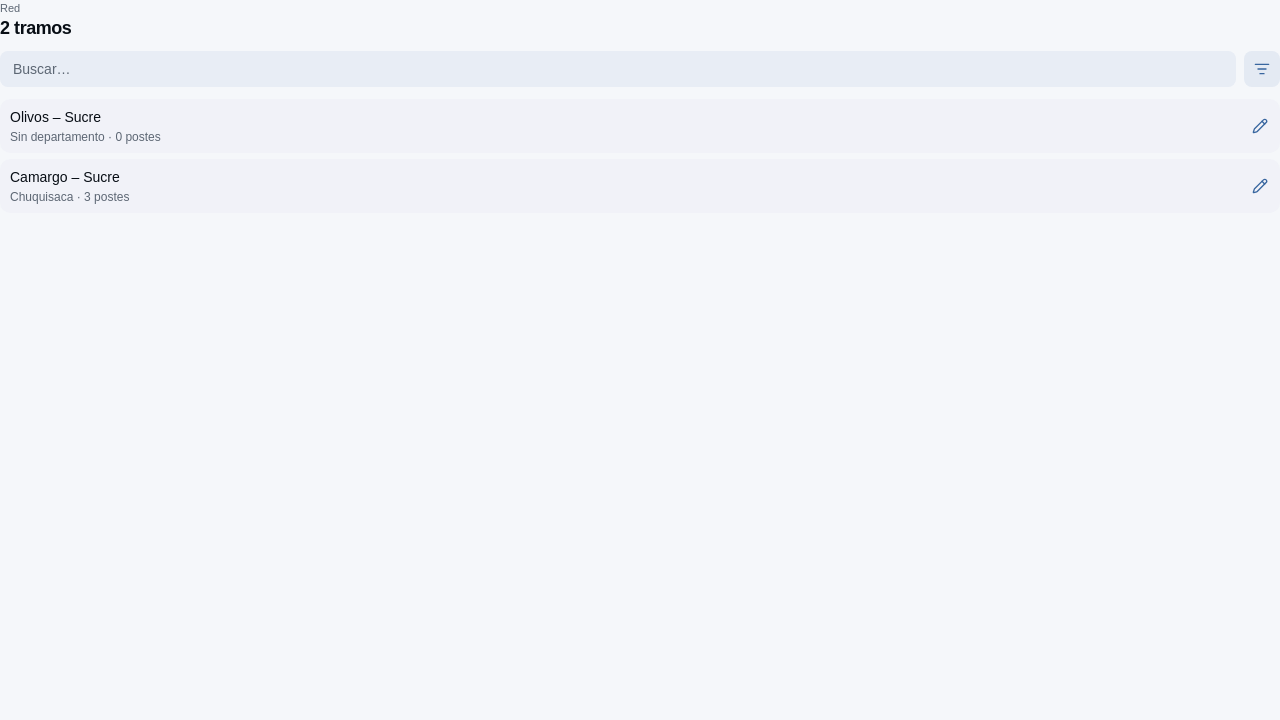
Scenario: the list › offers only the departments some tramo is in
Click the button named "Filtros" at (1262, 69), box top-left (1244, 51), bottom-right (1279, 87)
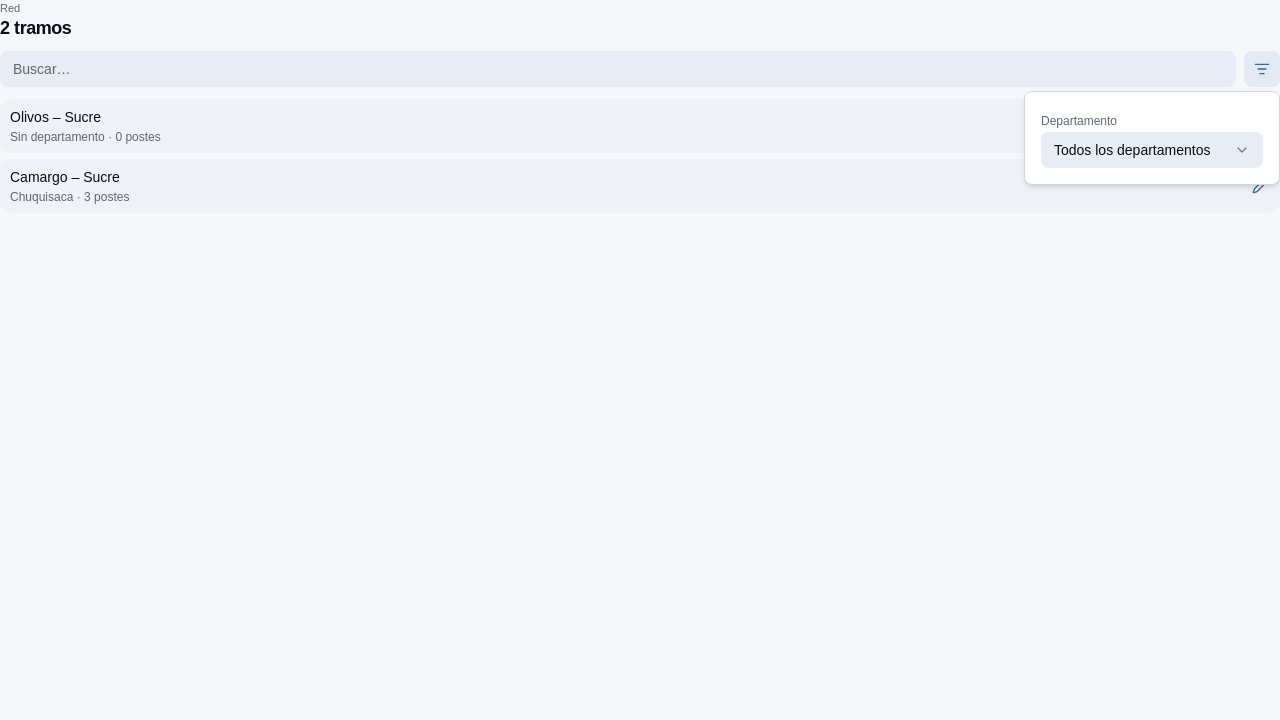
Click the dropdown named "Filtrar por departamento" at (1152, 150), box top-left (1041, 132), bottom-right (1263, 168)
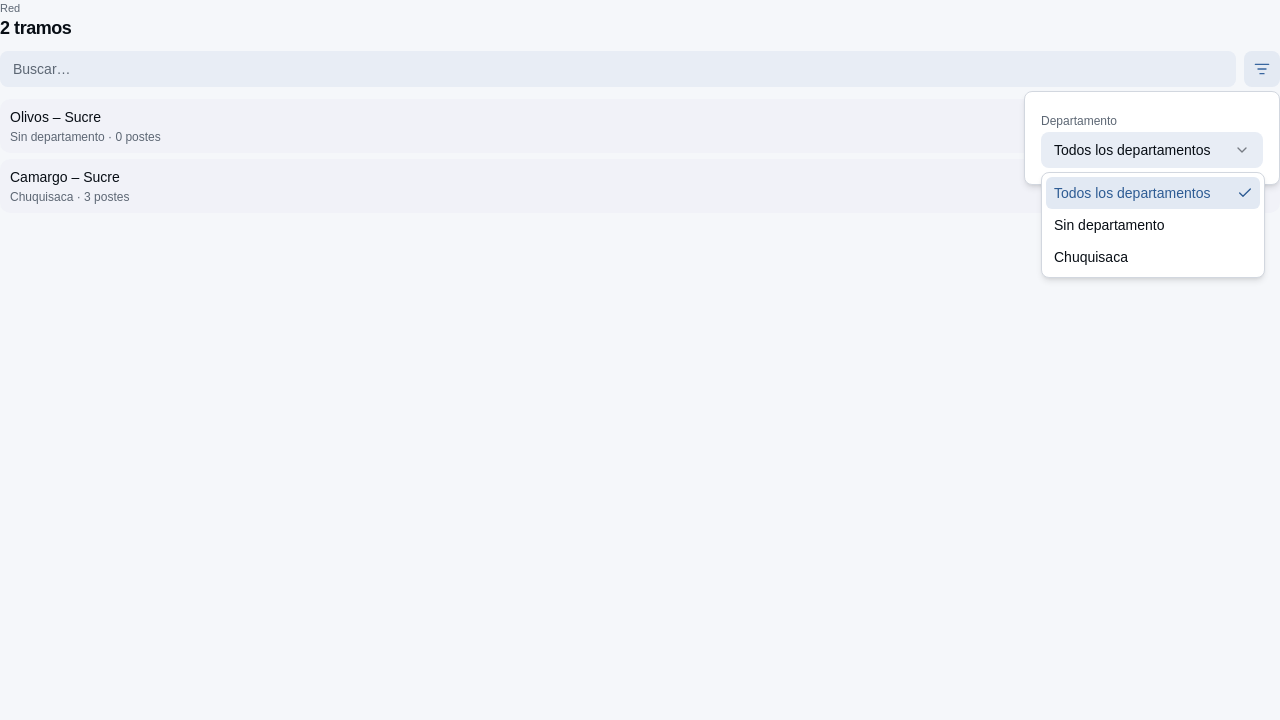
expect the option "Chuquisaca" is shown: met, box top-left (1054, 249), bottom-right (1128, 265)
